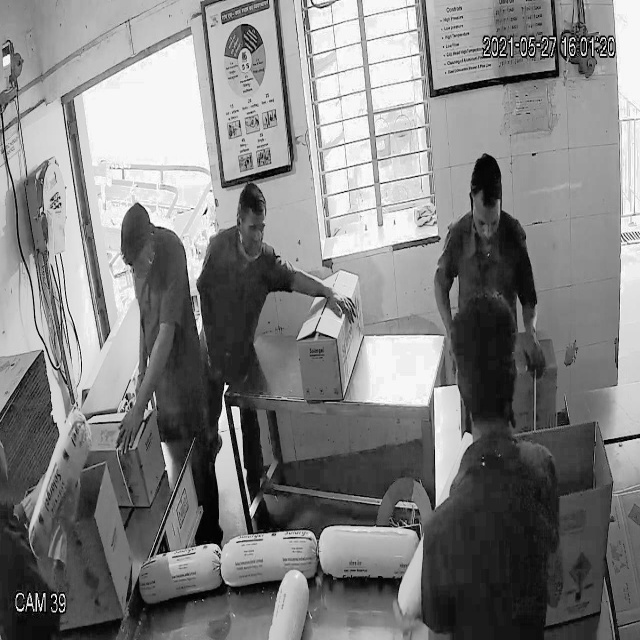Sin_gafas: (467, 201, 504, 236), (234, 213, 269, 244)
